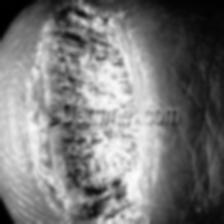Toxin: (40, 2, 148, 224)
